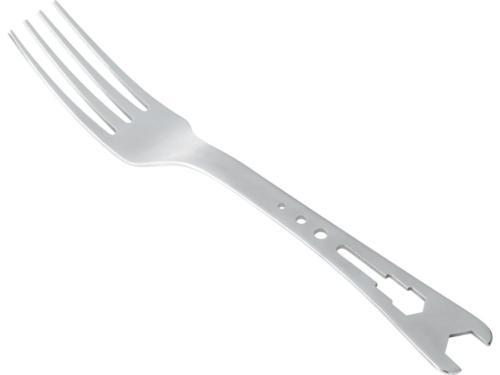Fork: (7, 0, 493, 375)
